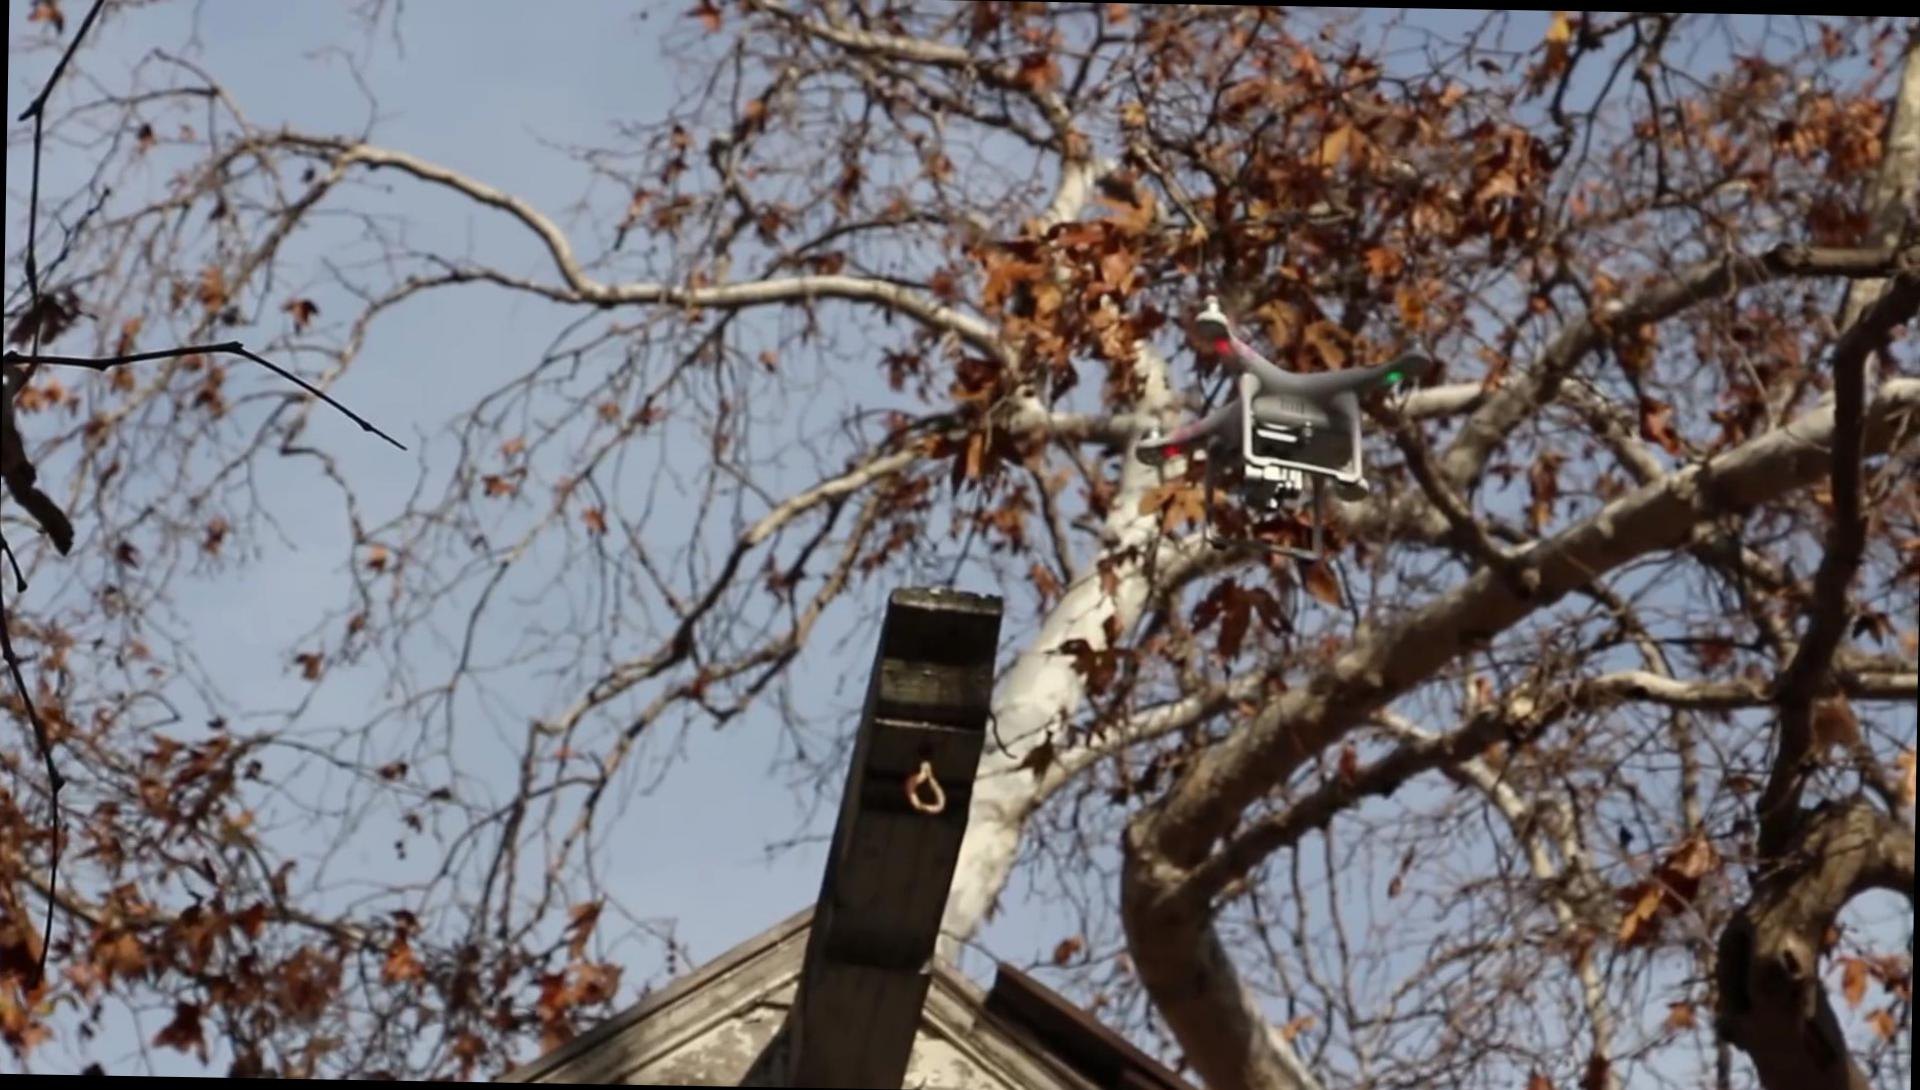drone: (1133, 283, 1444, 550)
